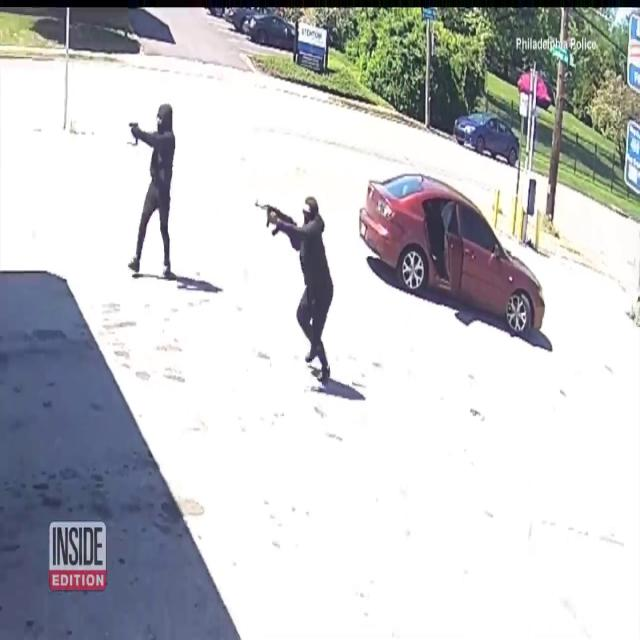penembakan: (255, 184, 337, 396), (126, 100, 184, 298)
